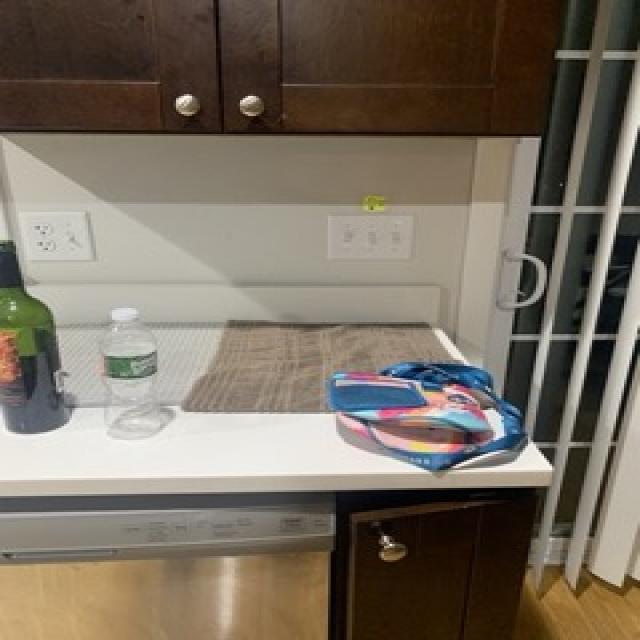water_bottle: (96, 306, 168, 442)
